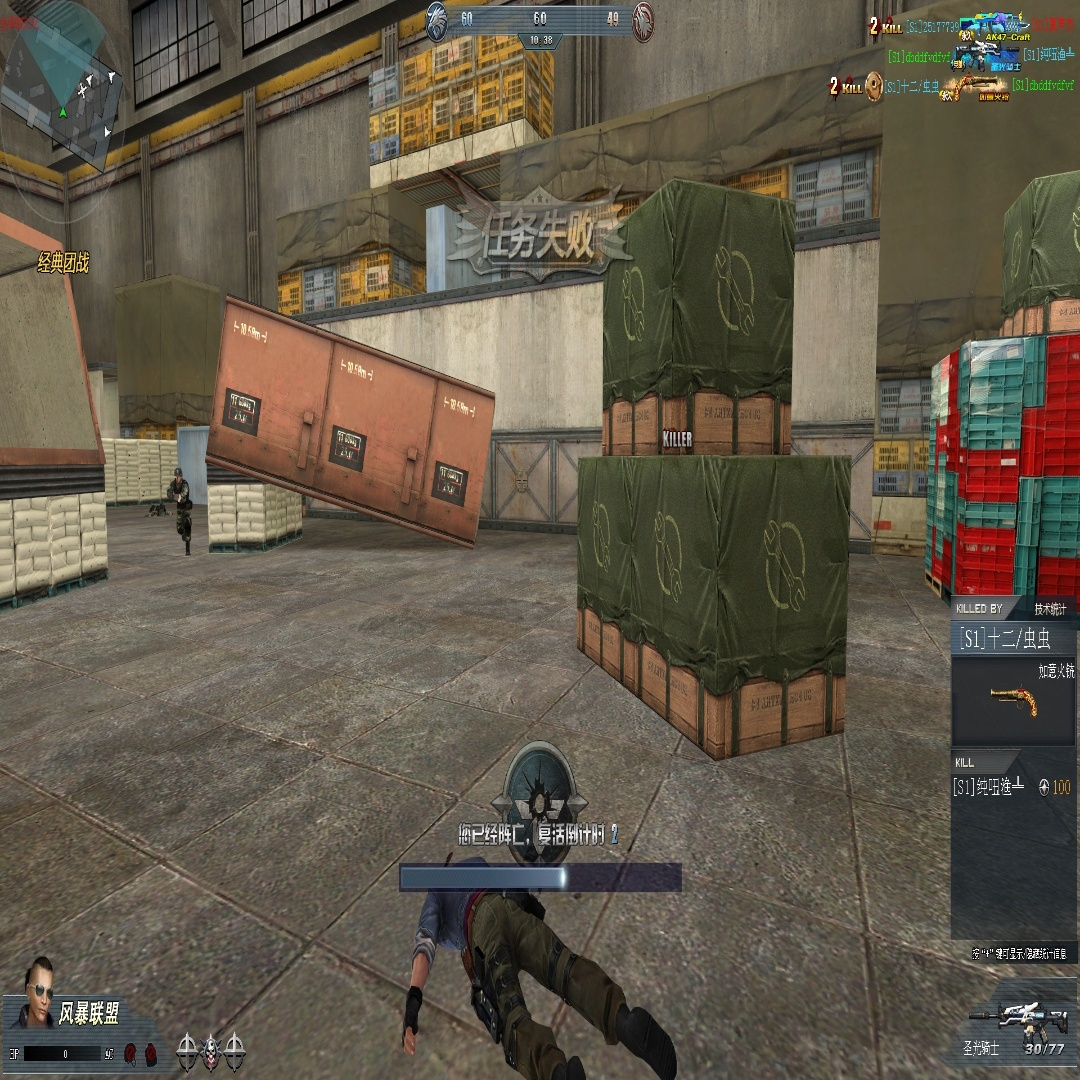ct: (172, 466, 193, 554)
